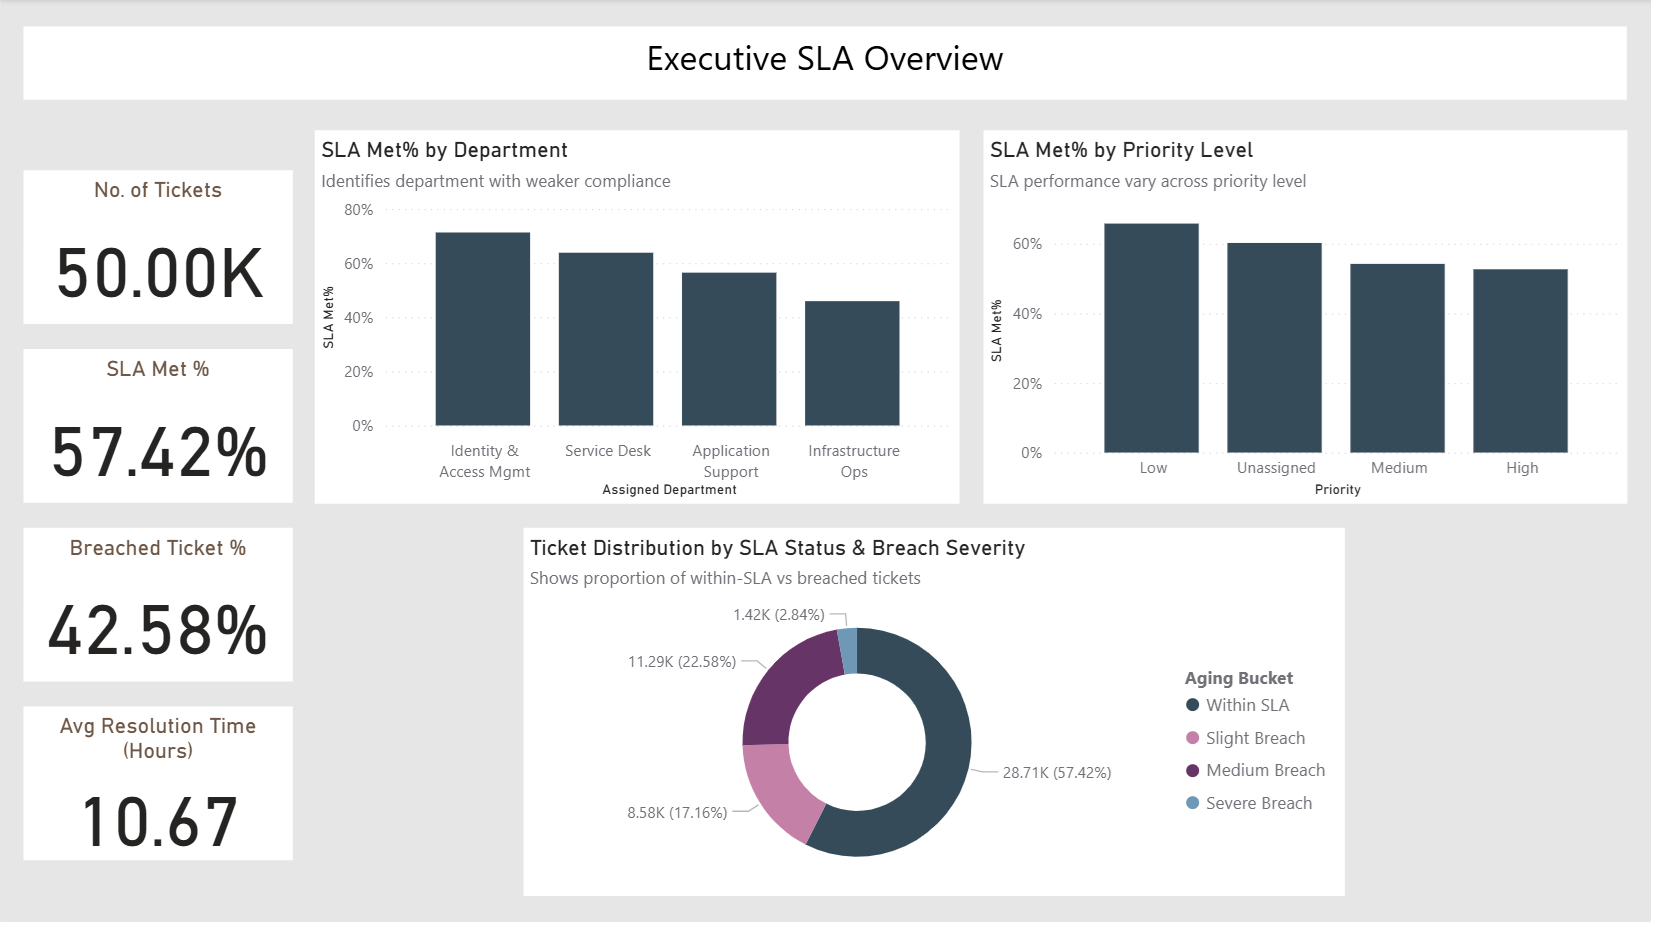

What the dashboard file says about the page in this screenshot:
{"tool":"powerbi","page":{"name":"Exexutive SLA Overview","canvas":[1280,720],"ordinal":0},"visuals":[{"type":"card","title":"SLA Met %","fields":{"Values":["SLA Project.SLA Met%"]},"box":[17.8,271.7,208.6,119.4],"z":0},{"type":"card","title":"Breached Ticket %","fields":{"Values":["SLA Project.Breached%"]},"box":[17.8,410.3,208.6,119.4],"z":1000},{"type":"card","title":"Avg Resolution Time (Hours)","fields":{"Values":["Avg(SLA Project.Actual Resolution Hours)"]},"box":[17.8,548.9,208.6,119.4],"z":2000},{"type":"card","title":"No. of Tickets","fields":{"Values":["CountNonNull(SLA Project.Ticket No)"]},"box":[17.8,133.1,208.6,119.4],"z":3000},{"type":"textbox","box":[17.4,20.9,1243,57],"z":4000},{"type":"clusteredColumnChart","title":"SLA Met% by Department","fields":{"Category":["SLA Project.Assigned Department"],"Y":["SLA Project.SLA Met%"]},"box":[242.9,101.5,500,289.5],"z":5000},{"type":"clusteredColumnChart","title":"SLA Met% by Priority Level","fields":{"Y":["SLA Project.SLA Met%"],"Category":["SLA Project.Priority"]},"box":[761.6,101.5,499.5,289.5],"z":6000},{"type":"donutChart","title":"Ticket Distribution by SLA Status & Breach Severity","fields":{"Y":["CountNonNull(SLA Project.Ticket No)"],"Category":["SLA Project.Aging Bucket"]},"box":[404.8,410.3,636.7,285.4],"z":7000}]}

Visuals, with their boxes in screenshot pixels (x1, y1, x2, y2), scaled from the page's 1280x720 canvas onto the 1657x935 screenshot:
"SLA Met %" card: l=23, t=353, r=293, b=508
"Breached Ticket %" card: l=23, t=533, r=293, b=688
"Avg Resolution Time (Hours)" card: l=23, t=713, r=293, b=868
"No. of Tickets" card: l=23, t=173, r=293, b=328
textbox: l=23, t=27, r=1632, b=101
"SLA Met% by Department" clusteredColumnChart: l=314, t=132, r=962, b=508
"SLA Met% by Priority Level" clusteredColumnChart: l=986, t=132, r=1633, b=508
"Ticket Distribution by SLA Status & Breach Severity" donutChart: l=524, t=533, r=1348, b=903
